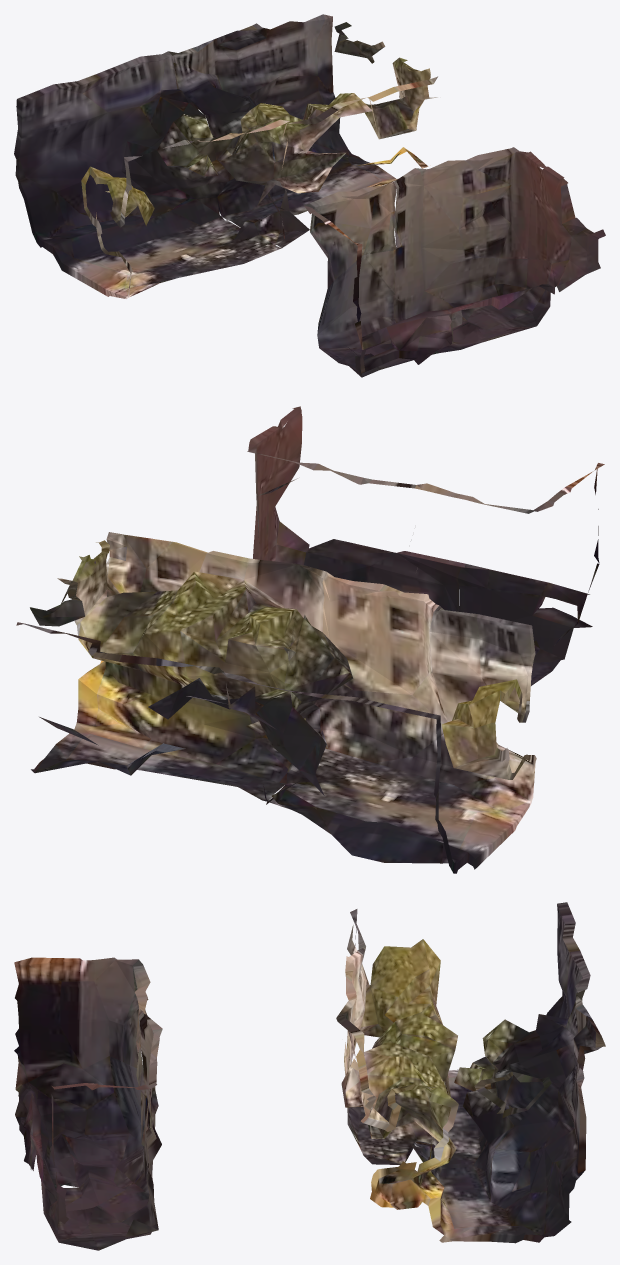
The picture shows the model from 3 angles, top to bottom: view 1: azimuth 30°, elevation 25°; view 2: azimuth 150°, elevation 25°; view 3: azimuth 270°, elevation 25°; orthographic projection. The views are drawn at different scales.
Parts seen in each view (by area): view 1: Mesh_0; view 2: Mesh_0; view 3: Mesh_0.
Part boxes in pixels (bbox=[...]): Mesh_0: bbox=[14, 14, 605, 377]; Mesh_0: bbox=[16, 406, 604, 873]; Mesh_0: bbox=[14, 902, 605, 1250].
Bounding box in the file's own units: 33.81 × 13.37 × 39.86.
1 material, 1 textured.
